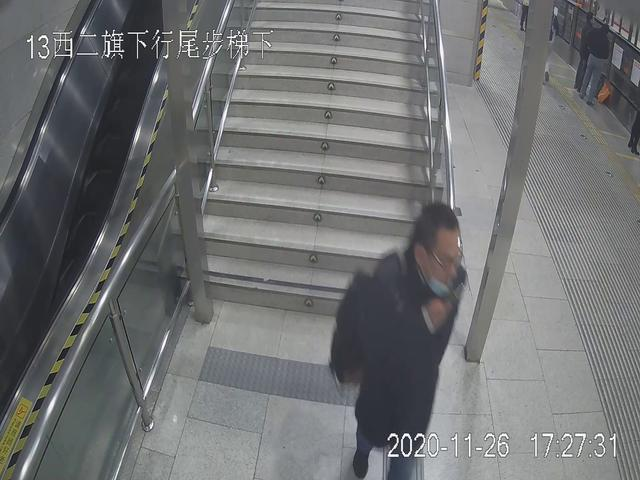person: (328, 201, 463, 479), (583, 21, 610, 106)
